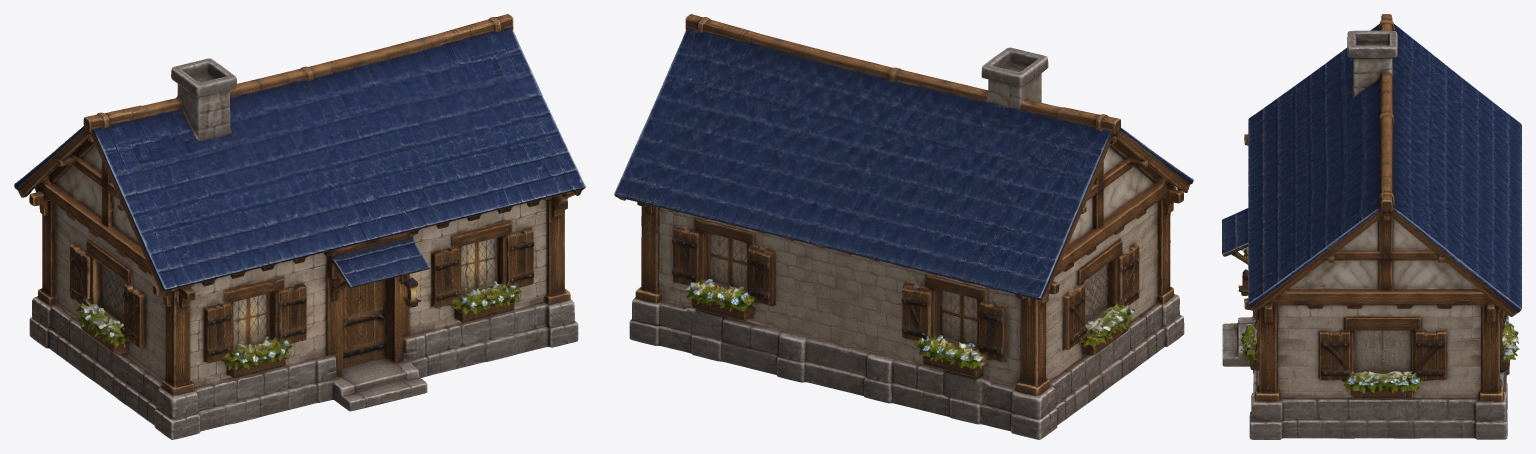
The picture shows the model from 3 angles, left to right: view 1: azimuth 30°, elevation 25°; view 2: azimuth 150°, elevation 25°; view 3: azimuth 270°, elevation 25°; orthographic projection. The views are drawn at different scales.
Size of the model in its own units: 12.61 by 8.37 by 8.55.
1 material, 1 textured.
